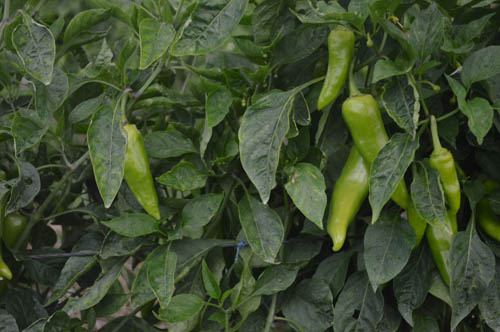ChiliPepper: (346, 96, 407, 205), (322, 143, 372, 253), (115, 127, 159, 218), (316, 31, 358, 111), (432, 150, 459, 212), (428, 219, 455, 280), (405, 195, 424, 242)
